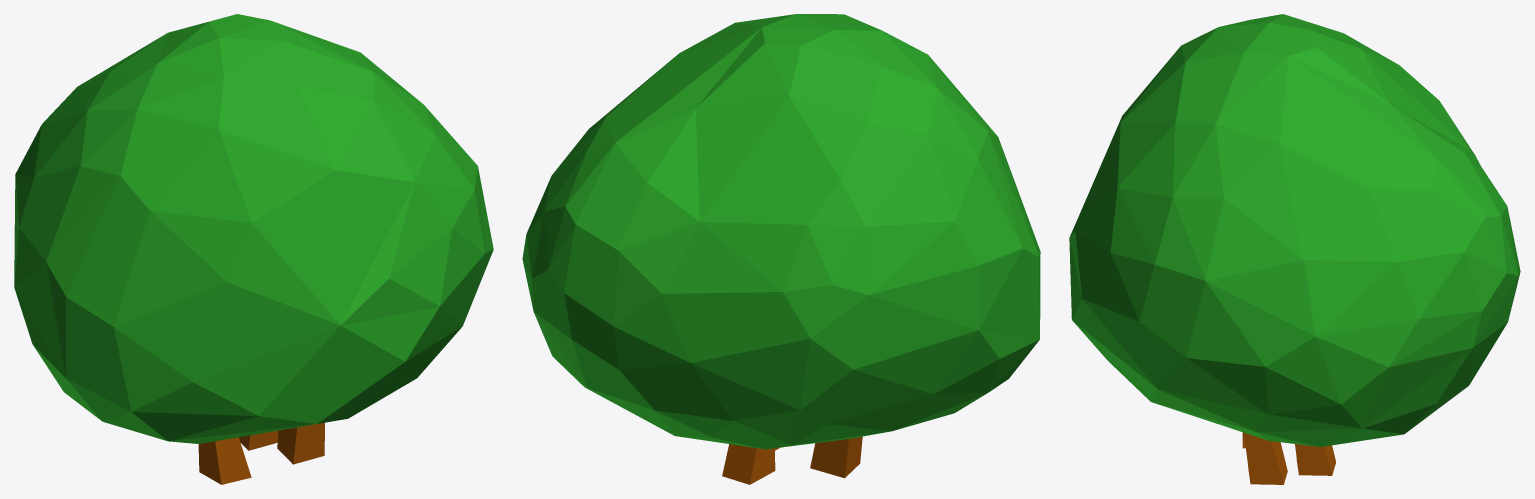
File: TreeLow_BranchB.fbx
The picture shows the model from 3 angles, left to right: view 1: azimuth 30°, elevation 25°; view 2: azimuth 150°, elevation 25°; view 3: azimuth 270°, elevation 25°; orthographic projection. The views are drawn at different scales.
Visible parts, largest first — view 1: TreeLow_BranchB; view 2: TreeLow_BranchB; view 3: TreeLow_BranchB.
Part boxes in pixels (x1=…): TreeLow_BranchB: x1=14, y1=14, x2=493, y2=484; TreeLow_BranchB: x1=522, y1=14, x2=1040, y2=484; TreeLow_BranchB: x1=1069, y1=14, x2=1520, y2=484.
Size of the model in its own units: 4.6 by 4.31 by 4.39.
